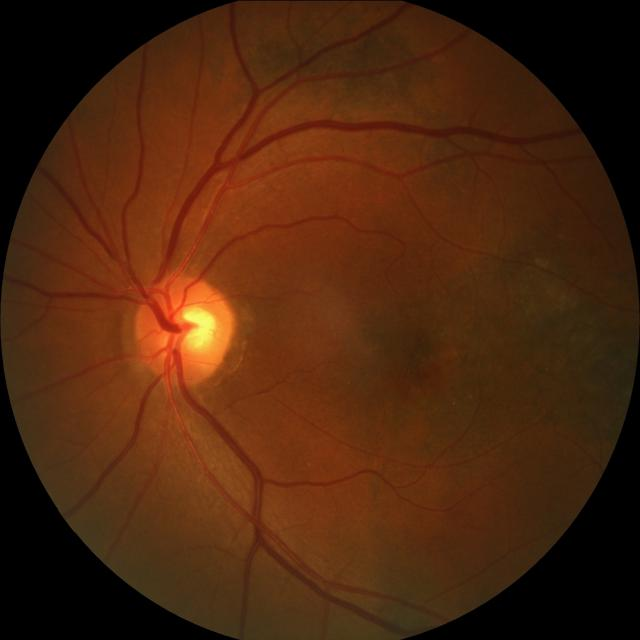OC: (167, 303, 217, 354)
OD: (135, 272, 236, 386)
